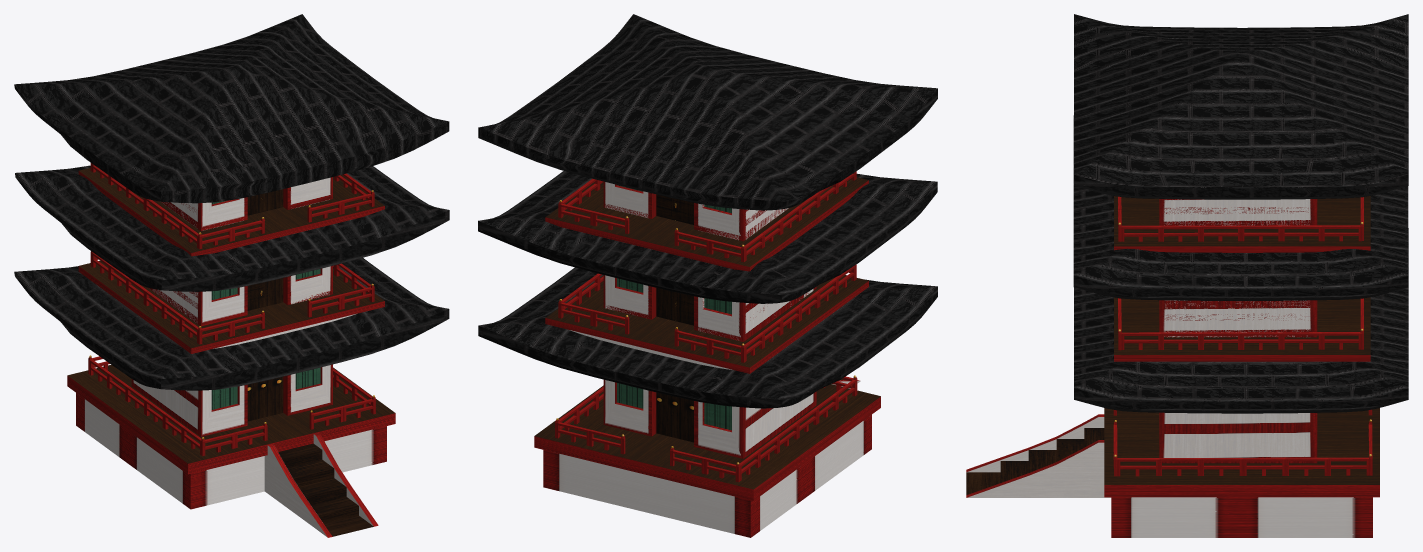
File: PagodaFBX.fbx
The picture shows the model from 3 angles, left to right: view 1: azimuth 30°, elevation 25°; view 2: azimuth 150°, elevation 25°; view 3: azimuth 270°, elevation 25°; orthographic projection. The views are drawn at different scales.
Parts seen in each view (by area): view 1: Top Roof, Roof 1, Roof 2, Pagoda Base, First Section, Second Base, Stairs, Third Base, First Section.001, First Section.002, Left Railing V2, Left Railing Floor 2 (+5 smaller); view 2: Top Roof, Pagoda Base, Roof 1, Roof 2, Second Base, First Section, Third Base, First Section.001, First Section.002, Third Section, Left Railing V2, Left Railing Floor 2 (+5 smaller); view 3: Top Roof, Pagoda Base, Roof 1, Roof 2, Second Base, Stairs, First Section, Third Base, First Section.001, First Section.002, Right Railing V2, Right Railing Floor 2 (+3 smaller).
Boxes of the visible parts, x1,y1,x2,y2 form: Top Roof: [14, 14, 449, 203]; Roof 1: [14, 258, 449, 390]; Roof 2: [15, 165, 449, 291]; Pagoda Base: [67, 364, 395, 509]; First Section: [131, 364, 332, 436]; Second Base: [78, 260, 384, 353]; Stairs: [264, 433, 378, 537]; Third Base: [78, 168, 384, 256]; First Section.001: [148, 266, 332, 326]; First Section.002: [161, 177, 332, 230]; Left Railing V2: [88, 355, 267, 456]; Left Railing Floor 2: [90, 251, 264, 344]; Top Roof: [478, 14, 937, 210]; Pagoda Base: [534, 384, 880, 537]; Roof 1: [478, 267, 937, 408]; Roof 2: [478, 171, 937, 303]; Second Base: [545, 275, 868, 373]; First Section: [603, 379, 816, 458]; Third Base: [545, 177, 868, 271]; First Section.001: [603, 275, 809, 341]; First Section.002: [603, 181, 786, 240]; Third Section: [603, 182, 788, 241]; Left Railing V2: [670, 375, 857, 482]; Left Railing Floor 2: [674, 264, 856, 362]; Top Roof: [1074, 14, 1408, 199]; Pagoda Base: [1104, 408, 1379, 537]; Roof 1: [1074, 228, 1408, 413]; Roof 2: [1073, 115, 1408, 300]; Second Base: [1114, 297, 1370, 361]; Stairs: [966, 414, 1111, 497]; First Section: [1159, 412, 1317, 463]; Third Base: [1114, 196, 1370, 252]; First Section.001: [1159, 300, 1317, 337]; First Section.002: [1159, 199, 1317, 225]; Right Railing V2: [1113, 419, 1372, 476]; Right Railing Floor 2: [1118, 298, 1363, 350].
Size of the model in its own units: 5963 by 7516 by 6940.
